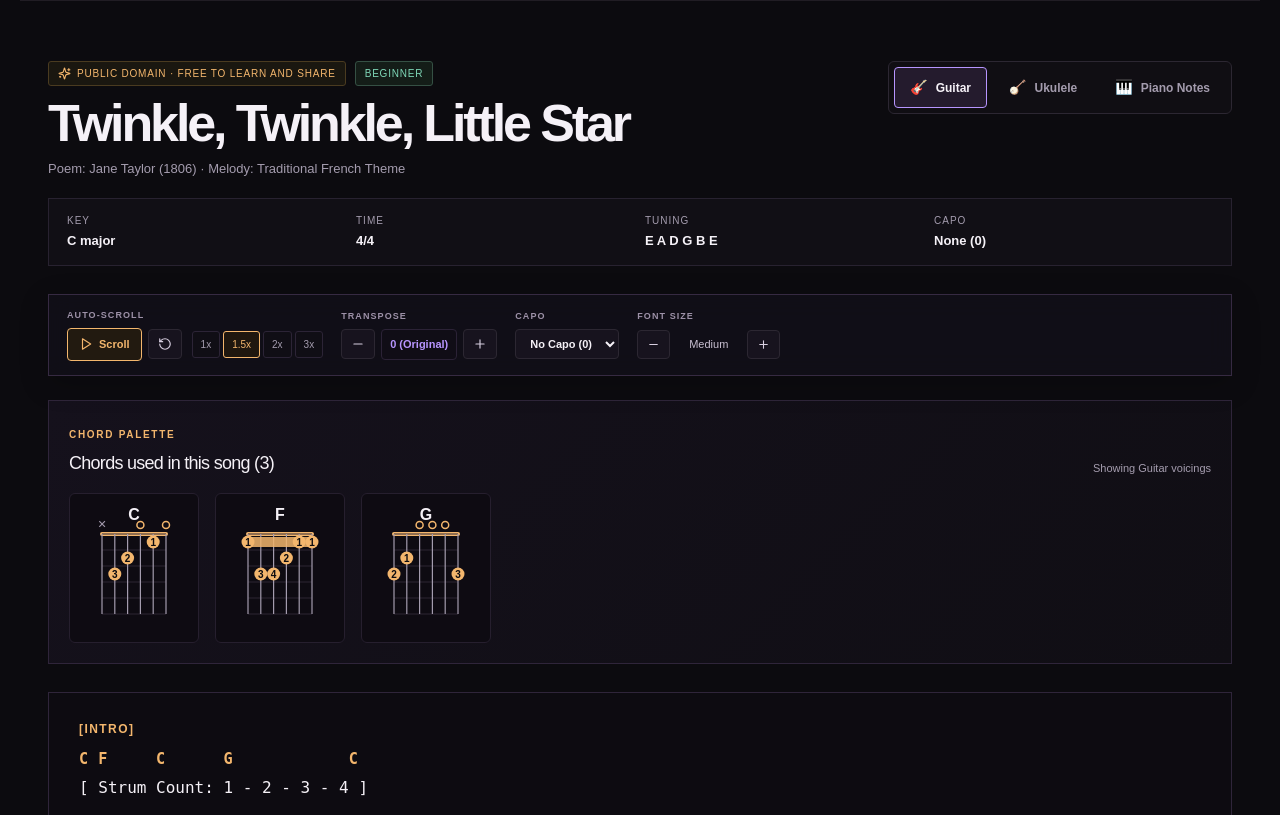
SongSheetReader › switches tabs between Guitar, Ukulele, and Piano Notes with appropriate diagrams
Expected: the element with test id "guitar-chord-C" is shown, x1=69 y1=493 x2=199 y2=643
# Switch to Ukulele
Click the tab "🪕 Ukulele": (1043, 88) x1=993 y1=67 x2=1093 y2=108
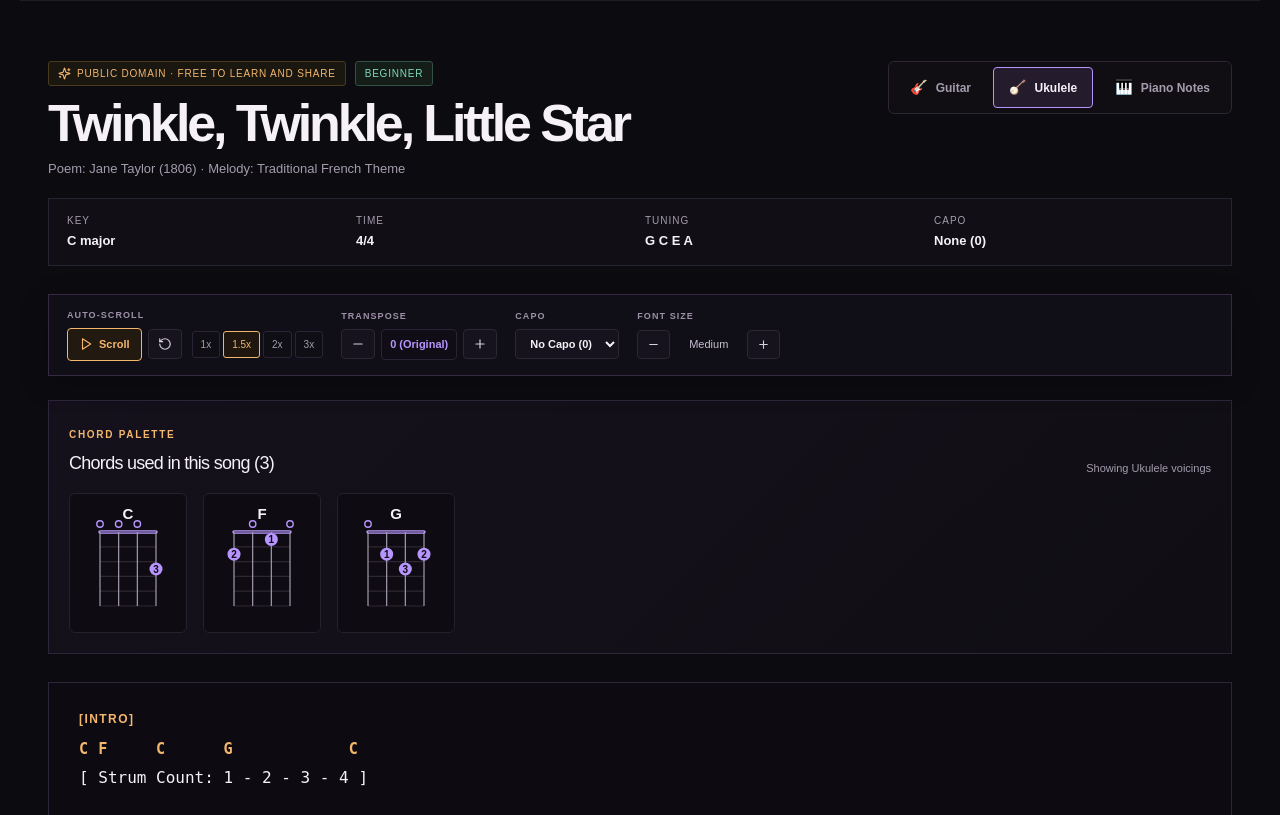
Result: the element with test id "ukulele-chord-C" is shown at x1=69 y1=493 x2=187 y2=633
# Switch to Piano Notes
Click the tab "🎹 Piano Notes": (1163, 88) x1=1099 y1=67 x2=1226 y2=108
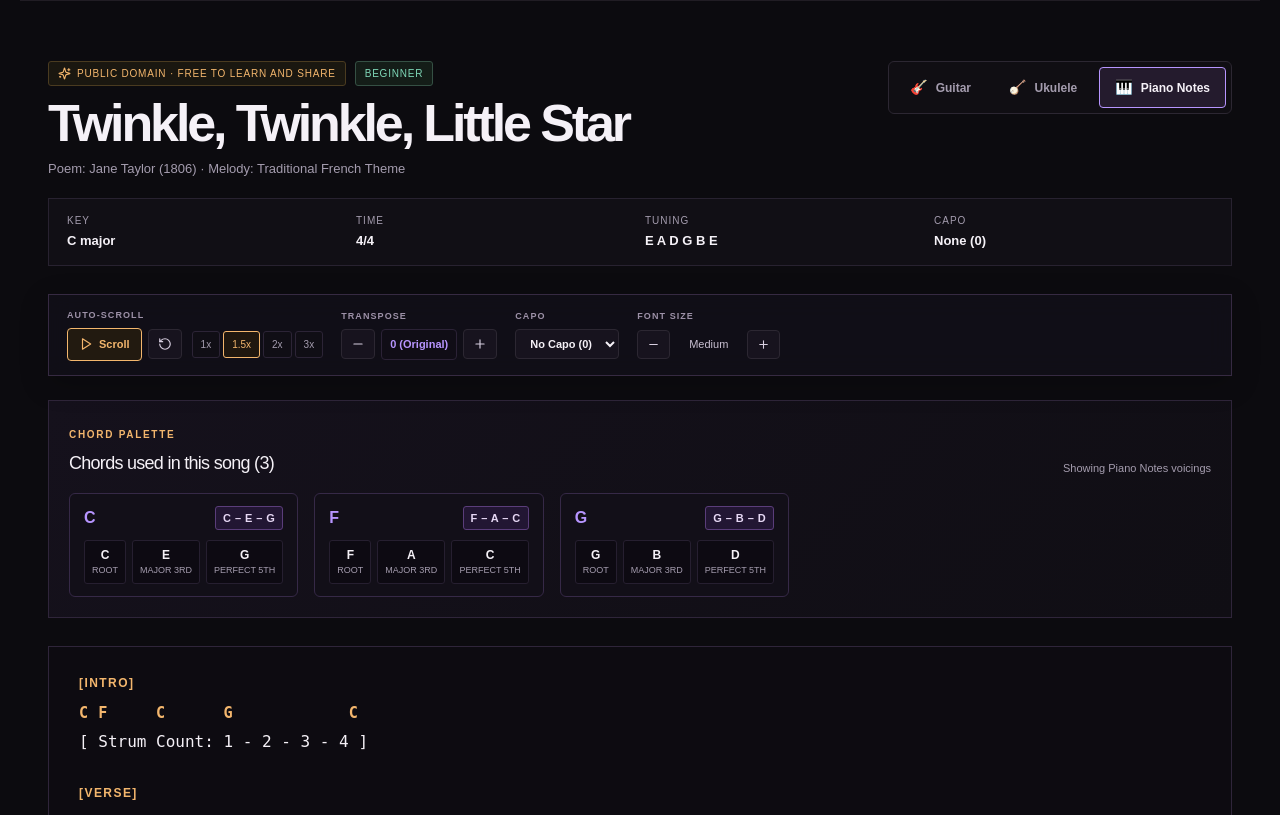
Result: the element with test id "piano-notes-C" is shown at x1=69 y1=493 x2=298 y2=597
Result: the text "C – E – G" is shown at x1=215 y1=506 x2=283 y2=530
Result: the text "F – A – C" is shown at x1=462 y1=506 x2=529 y2=530
